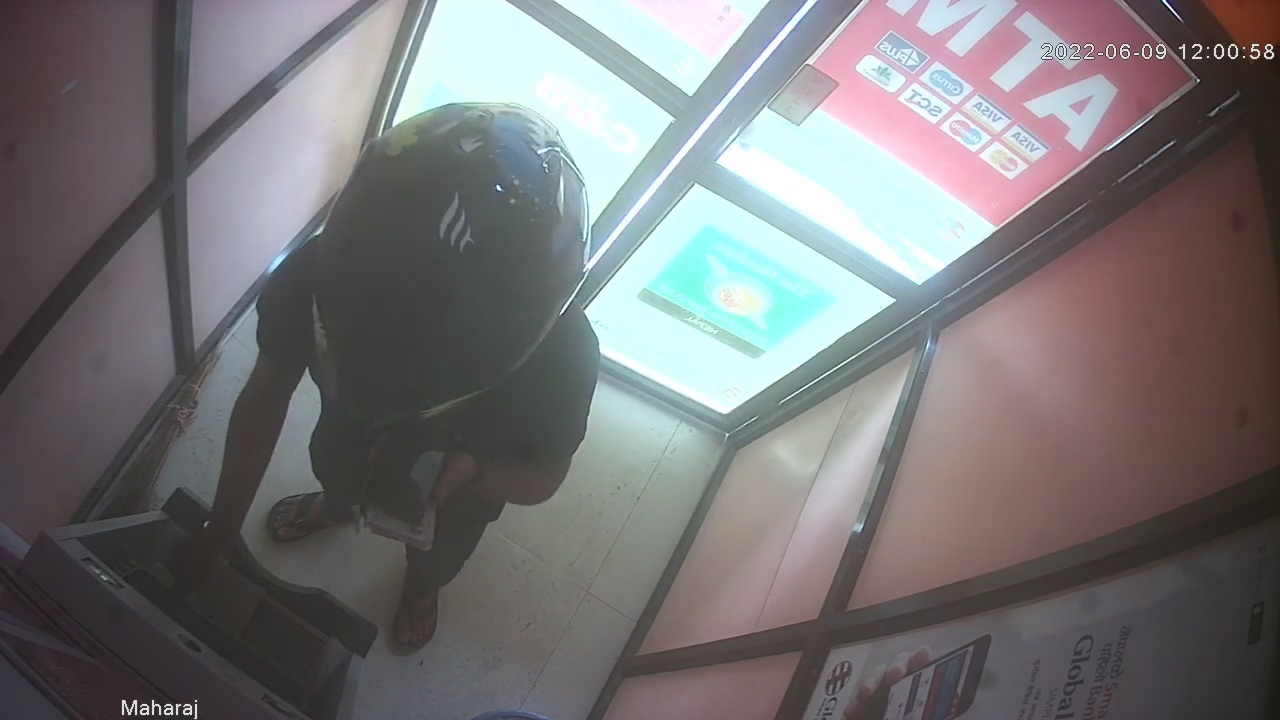helmet: (303, 100, 588, 425)
person: (166, 100, 601, 659)
